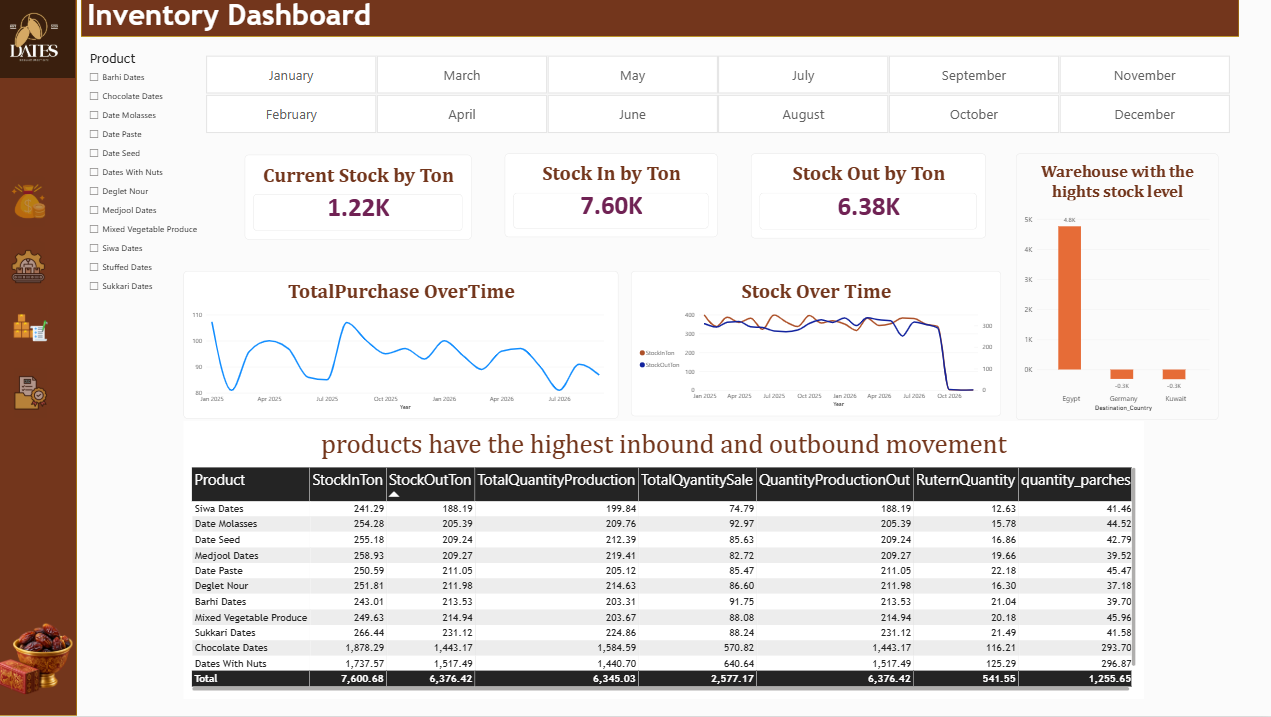

Layout of this report page (visuals, bound fields, positions):
{"tool":"powerbi","page":{"name":"Invernory","canvas":[1920,1080],"ordinal":3},"visuals":[{"type":"shape","box":[179,0,1741,85],"z":0},{"type":"shape","box":[0,0,170,1081],"z":1000},{"type":"image","box":[0,0,172,164],"z":2000},{"type":"textbox","title":"Inventory Dashboard","box":[191.7,1.7,741.7,116.7],"z":3000},{"type":"cardVisual","title":"Current Stock by Ton","fields":{"Data":["MyMeasures.CurrentStock"]},"box":[264,125,230,170],"z":4000},{"type":"cardVisual","title":"Stock In by Ton","fields":{"Data":["MyMeasures.StockIn"]},"box":[766.7,125,230,170],"z":5000},{"type":"lineChart","title":"Stock Over Time","fields":{"Category":["DateDim.Date.Variation.Date Hierarchy.Year","DateDim.Date.Variation.Date Hierarchy.Month"],"Y":["MyMeasures.StockIn"],"Y2":["MyMeasures.StockOut"]},"box":[256,372,740,290],"z":6000},{"type":"tableEx","title":"products have the highest inbound and outbound movement","fields":{"Values":["productDim.Product","MyMeasures.StockInTon","MyMeasures.StockOutTon","MyMeasures.TotalQuantityProduction","MyMeasures.TotalQyantitySale","MyMeasures.QuantityProductionIn","MyMeasures.RuternQuantity","MyMeasures.quantity_parches"]},"box":[1050,126.7,833.3,535],"z":7000},{"type":"cardVisual","title":"Stock Out by Ton","fields":{"Data":["MyMeasures.StockOut"]},"box":[536.7,126.7,230,168.3],"z":8000},{"type":"image","box":[0,844,150,235.7],"z":9000},{"type":"barChart","title":"Warehouse with the hights stock level","fields":{"Category":["shipDim.Destination_Country"],"Y":["MyMeasures.CurrentStock"]},"box":[1550,720,334,340],"z":10000},{"type":"lineChart","title":"TotalPurchase OverTime","fields":{"Category":["DateDim.Date.Variation.Date Hierarchy.Year","DateDim.Date.Variation.Date Hierarchy.Month"],"Y":["MyMeasures.TotalPurchase"]},"box":[264,720,732,298],"z":11000},{"type":"actionButton","box":[45.3,211,69,102],"z":12000},{"type":"actionButton","box":[40.1,343.6,69,102],"z":13000},{"type":"actionButton","box":[40.1,490.1,69,102],"z":14000},{"type":"actionButton","box":[45.3,743,69,102],"z":15000},{"type":"actionButton","box":[45.3,612.2,69,102],"z":16000},{"type":"slicer","title":"Year","fields":{"Values":["DateDim.Date.Variation.Date Hierarchy.Year"]},"box":[1308.1,0,512.8,82],"z":17000},{"type":"slicer","title":"Month","fields":{"Values":["DateDim.Date.Variation.Date Hierarchy.Month"]},"box":[1348.3,713.4,190,312],"z":18000},{"type":"slicer","fields":{"Values":["productDim.Product"]},"box":[1070.9,720.4,237.2,312.2],"z":19000}]}

Visuals, with their boxes in screenshot pixels (x1, y1, x2, y2), scaled from the page's 1920x1080 canvas onto the 1271x717 screenshot:
shape: left=118, top=0, right=1270, bottom=56
shape: left=0, top=0, right=113, bottom=716
image: left=0, top=0, right=114, bottom=109
"Inventory Dashboard" textbox: left=127, top=1, right=618, bottom=79
"Current Stock by Ton" cardVisual: left=175, top=83, right=327, bottom=196
"Stock In by Ton" cardVisual: left=508, top=83, right=660, bottom=196
"Stock Over Time" lineChart: left=169, top=247, right=659, bottom=439
"products have the highest inbound and outbound movement" tableEx: left=695, top=84, right=1247, bottom=439
"Stock Out by Ton" cardVisual: left=355, top=84, right=508, bottom=196
image: left=0, top=560, right=99, bottom=716
"Warehouse with the hights stock level" barChart: left=1026, top=478, right=1247, bottom=704
"TotalPurchase OverTime" lineChart: left=175, top=478, right=659, bottom=676
actionButton: left=30, top=140, right=76, bottom=208
actionButton: left=27, top=228, right=72, bottom=296
actionButton: left=27, top=325, right=72, bottom=393
actionButton: left=30, top=493, right=76, bottom=561
actionButton: left=30, top=406, right=76, bottom=474
"Year" slicer: left=866, top=0, right=1205, bottom=54
"Month" slicer: left=893, top=474, right=1018, bottom=681
slicer - productDim.Product: left=709, top=478, right=866, bottom=686
